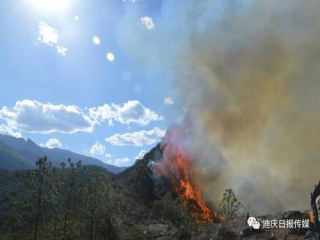fire: (156, 135, 217, 224)
smoke: (186, 21, 316, 202)
